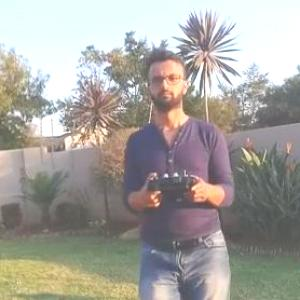follow: (121, 45, 237, 299)
